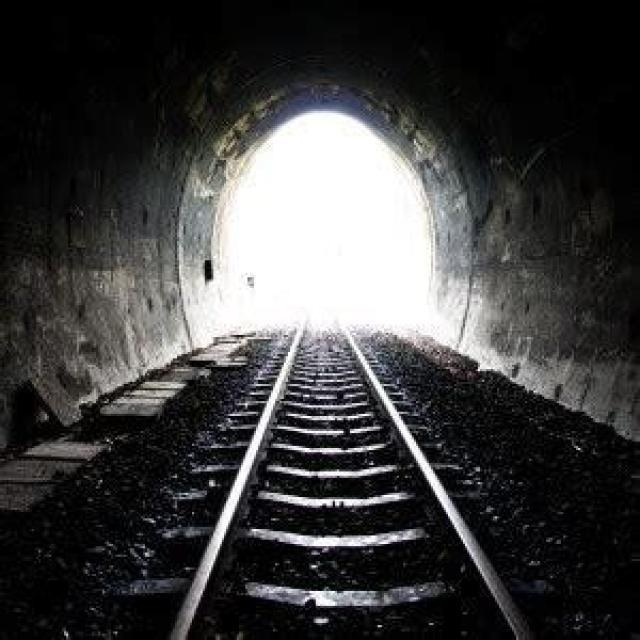rail: (121, 313, 562, 640)
